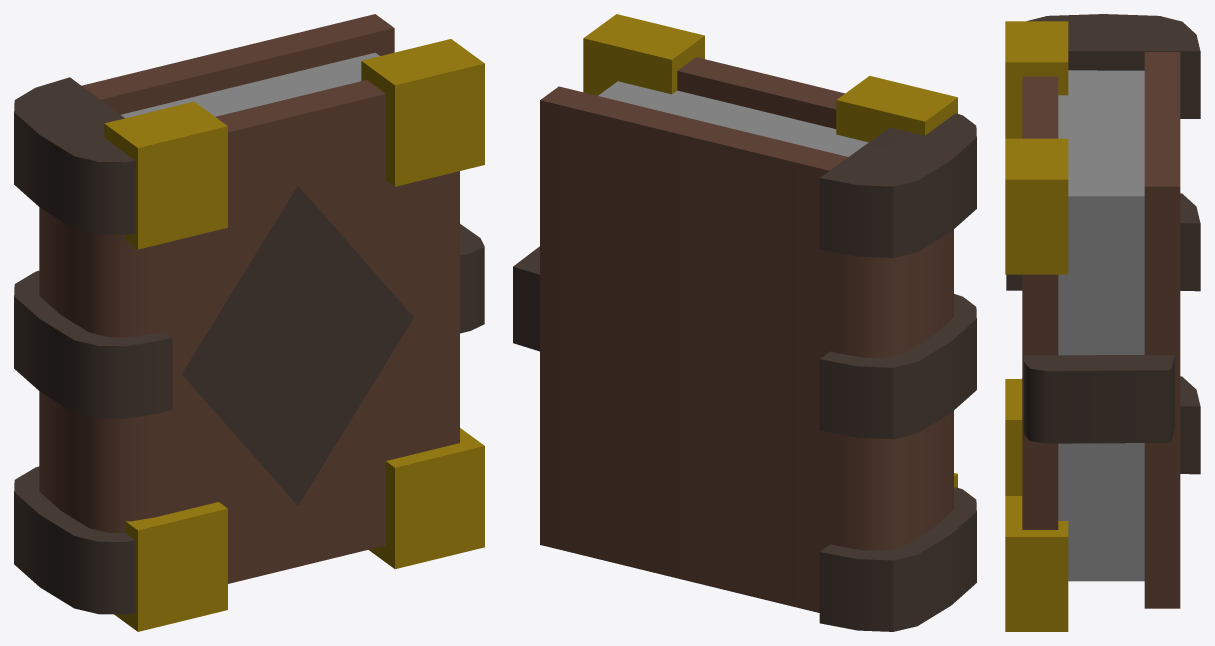
File: cstl_book_01.fbx
3 renders of one model, left to right at view 1: azimuth 30°, elevation 25°; view 2: azimuth 150°, elevation 25°; view 3: azimuth 270°, elevation 25°, orthographic. The views are drawn at different scales.
Parts seen in each view (by area): view 1: cstl_book_01; view 2: cstl_book_01; view 3: cstl_book_01.
Part boxes in pixels (left/top/right/bottom): cstl_book_01: left=14, top=14, right=484, bottom=631; cstl_book_01: left=513, top=14, right=976, bottom=631; cstl_book_01: left=1005, top=14, right=1200, bottom=631.
Bounding box in the file's own units: 47.23 × 53.13 × 20.77.
